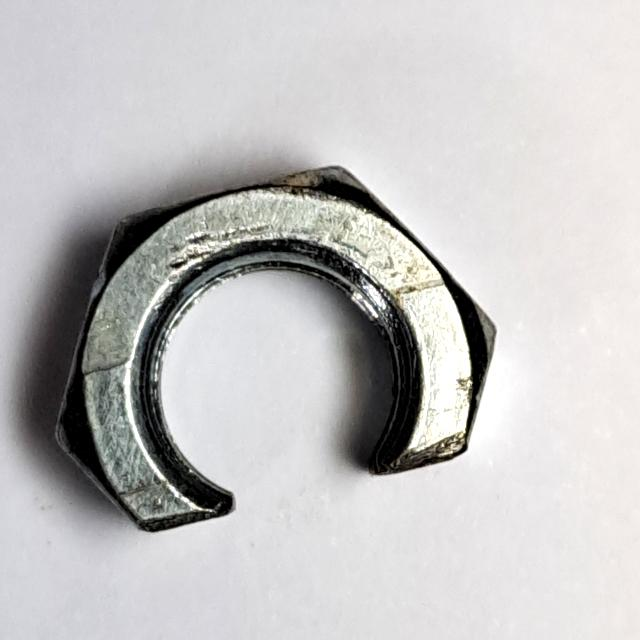Fracture: (36, 154, 511, 552)
